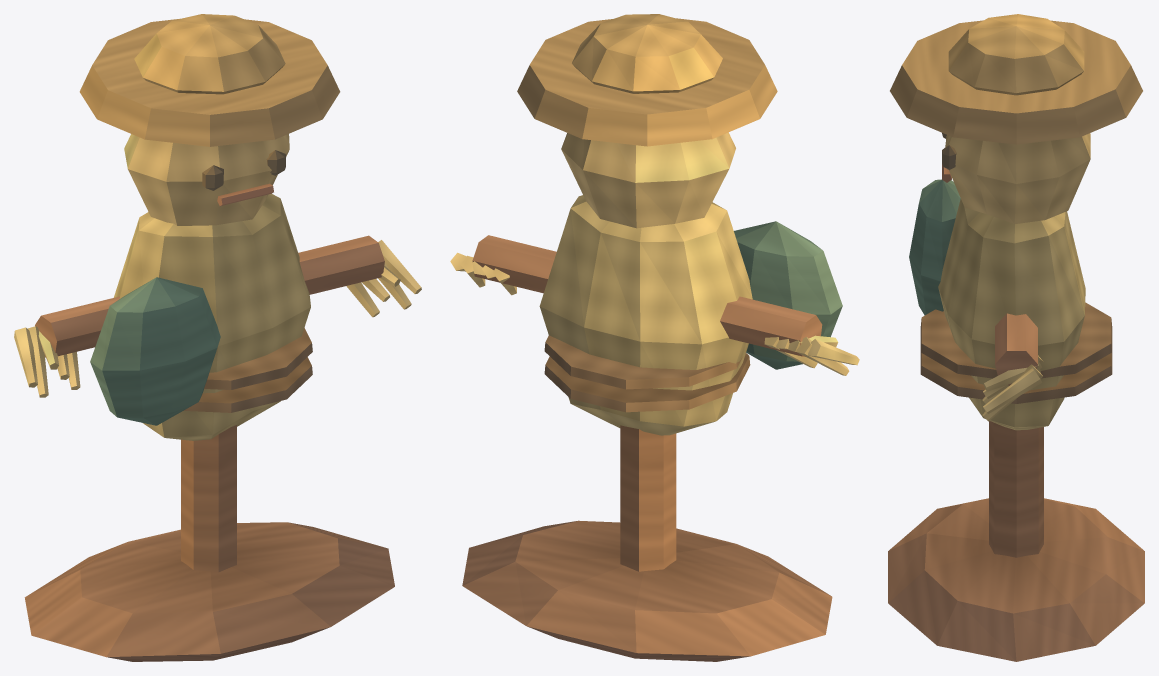
The model's file is training_dummy.glb.
3 renders of one model, left to right at view 1: azimuth 30°, elevation 25°; view 2: azimuth 150°, elevation 25°; view 3: azimuth 270°, elevation 25°, orthographic. The views are drawn at different scales.
Parts seen in each view (by area): view 1: Strohwächter · Übung am Kartenbinder; view 2: Strohwächter · Übung am Kartenbinder; view 3: Strohwächter · Übung am Kartenbinder.
Part boxes in pixels (left/top/right/bottom): Strohwächter · Übung am Kartenbinder: left=14, top=14, right=421, bottom=661; Strohwächter · Übung am Kartenbinder: left=450, top=14, right=859, bottom=661; Strohwächter · Übung am Kartenbinder: left=888, top=14, right=1144, bottom=661.
Size of the model in its own units: 1.08 by 1.58 by 0.6277.
3 materials, 2 textured.
